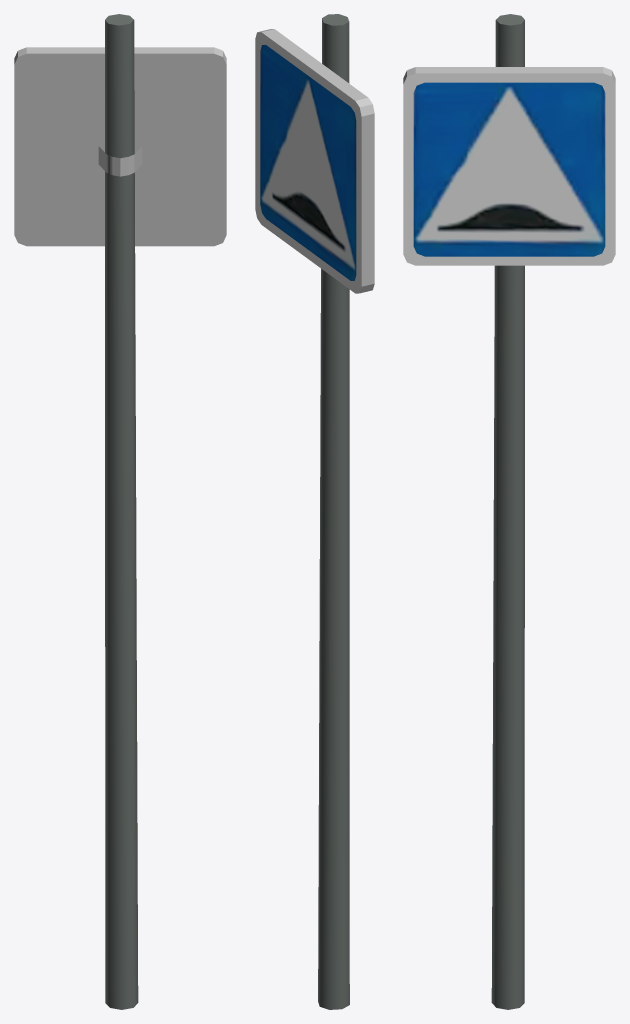
The model's file is SM_MetalPole_02.fbx.
The picture shows the model from 3 angles, left to right: view 1: azimuth 90°, elevation 25°; view 2: azimuth 210°, elevation 25°; view 3: azimuth 270°, elevation 25°; orthographic projection.
Parts seen in each view (by area): view 1: SM_MetalPole_02; view 2: SM_MetalPole_02; view 3: SM_MetalPole_02.
Part boxes in pixels (x1,y1,x2,y2): SM_MetalPole_02: [14, 14, 226, 1009]; SM_MetalPole_02: [255, 14, 374, 1009]; SM_MetalPole_02: [403, 14, 615, 1009].
Bounding box in the file's own units: 0.1118 × 2.6 × 0.5089.
